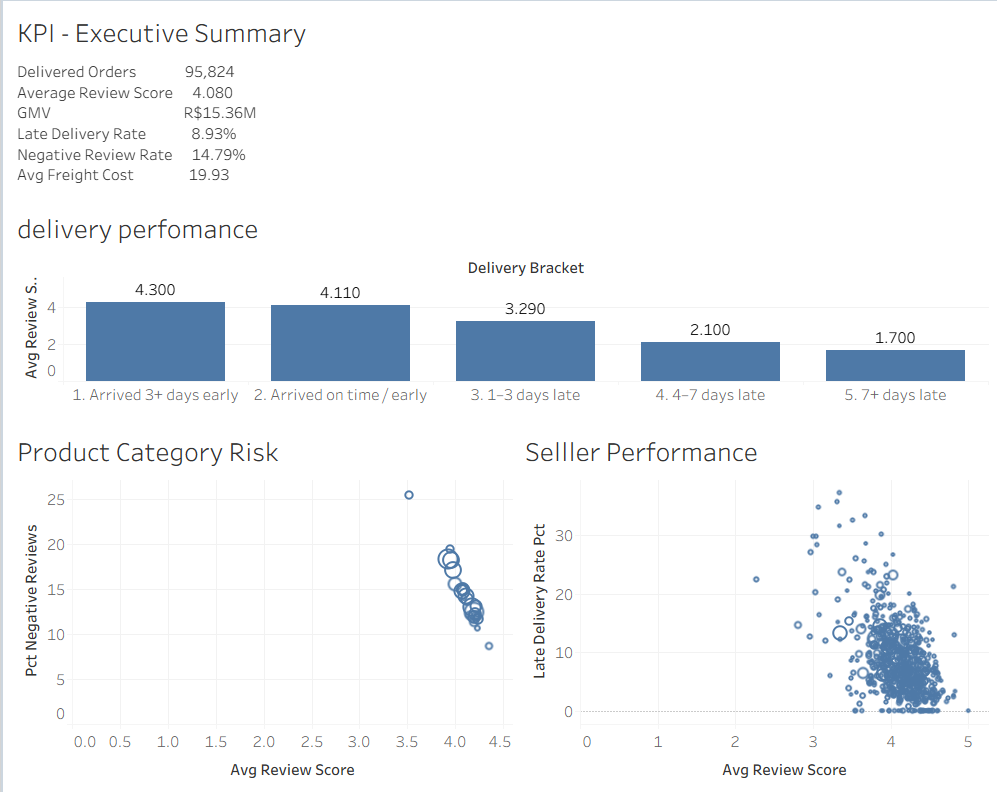

The page's visual inventory and layout, read from the dashboard file:
{"tool":"tableau","page":{"name":"Olist Customer Satisfaction — Executive Dashboard","canvas":[1000,800],"ordinal":0},"visuals":[{"type":"worksheet","title":"KPI - Executive Summary","mark":"Text","box":[8,8,984,196]},{"type":"worksheet","title":"delivery perfomance","mark":"Automatic","rows":["avg_review_score"],"cols":["delivery_bracket"],"box":[8,204,984,222.9]},{"type":"worksheet","title":"Product Category Risk","mark":"Automatic","rows":["pct_negative_reviews"],"cols":["avg_review_score"],"box":[8,426.9,507.9,365.1]},{"type":"worksheet","title":"seller_performance","mark":"Automatic","rows":["late_delivery_rate_pct"],"cols":["avg_review_score"],"box":[515.9,426.9,476.2,365.1]}]}

Visuals, with their boxes in screenshot pixels (x1, y1, x2, y2), scaled from the page's 1000x800 canvas onto the 997x792 screenshot:
"KPI - Executive Summary" worksheet (Text marks): BBox(8, 8, 989, 202)
"delivery perfomance" worksheet: BBox(8, 202, 989, 423)
"Product Category Risk" worksheet: BBox(8, 423, 514, 784)
"seller_performance" worksheet: BBox(514, 423, 989, 784)
